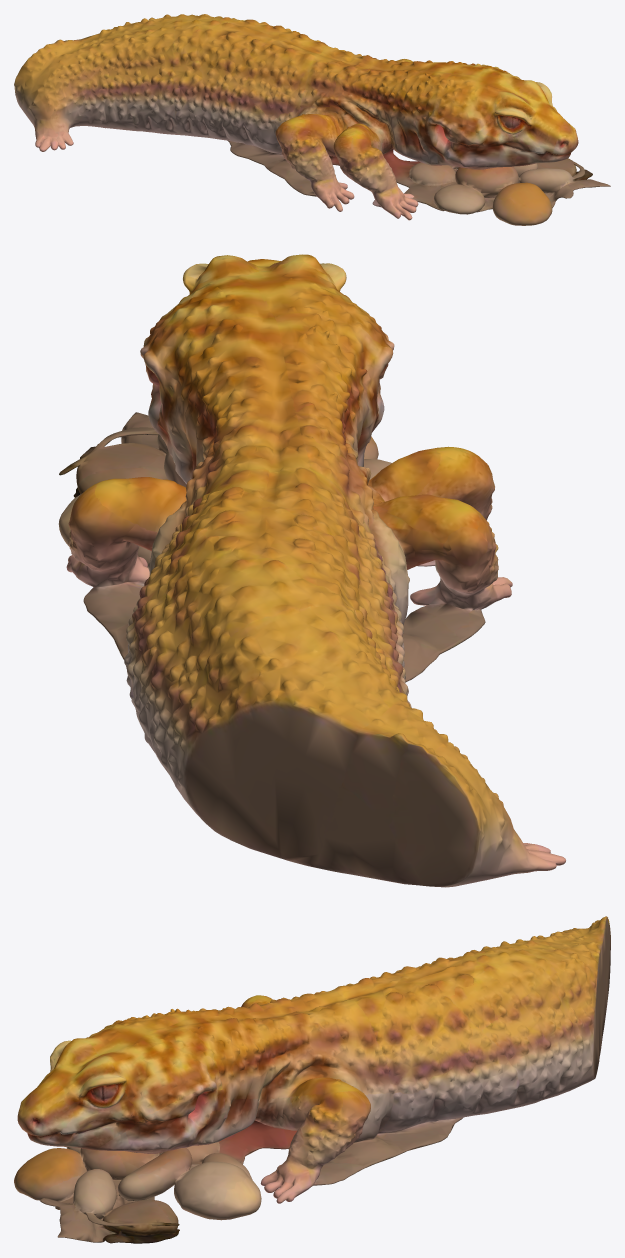
Rendered from sz-leopard-gecko.glb.
3 renders of one model, top to bottom at view 1: azimuth 30°, elevation 25°; view 2: azimuth 150°, elevation 25°; view 3: azimuth 270°, elevation 25°, orthographic. The views are drawn at different scales.
Parts seen in each view (by area): view 1: tripo_node_5bbcf44a-4a59-4f6b-aba1-136d74e4d3a4; view 2: tripo_node_5bbcf44a-4a59-4f6b-aba1-136d74e4d3a4; view 3: tripo_node_5bbcf44a-4a59-4f6b-aba1-136d74e4d3a4.
Boxes of the visible parts, x1,y1,x2,y2 form: tripo_node_5bbcf44a-4a59-4f6b-aba1-136d74e4d3a4: (14, 14, 610, 225); tripo_node_5bbcf44a-4a59-4f6b-aba1-136d74e4d3a4: (58, 254, 565, 887); tripo_node_5bbcf44a-4a59-4f6b-aba1-136d74e4d3a4: (14, 916, 610, 1243).
Size of the model in its own units: 0.9946 by 0.2876 by 0.9997.
1 material, 1 textured.
